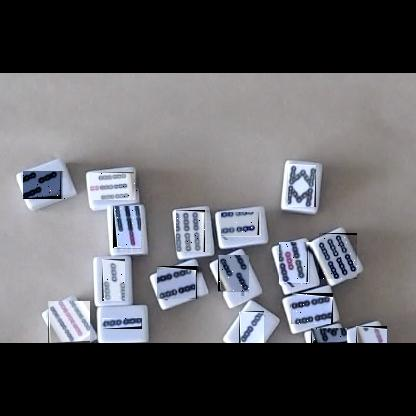2s: (239, 311, 264, 343), (102, 318, 142, 329)
3s: (218, 256, 249, 296), (24, 171, 66, 199), (102, 259, 125, 301)
4s: (158, 266, 202, 299), (291, 293, 333, 324), (222, 213, 264, 240)
5s: (280, 243, 313, 287)
6s: (319, 233, 357, 279), (177, 210, 210, 252)
7s: (91, 172, 139, 200), (113, 207, 141, 252), (356, 326, 387, 343)
8s: (288, 164, 316, 207), (311, 328, 347, 343)
9s: (48, 301, 90, 343)
